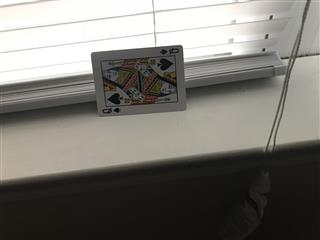QueenOfSpades: (89, 43, 187, 116)
